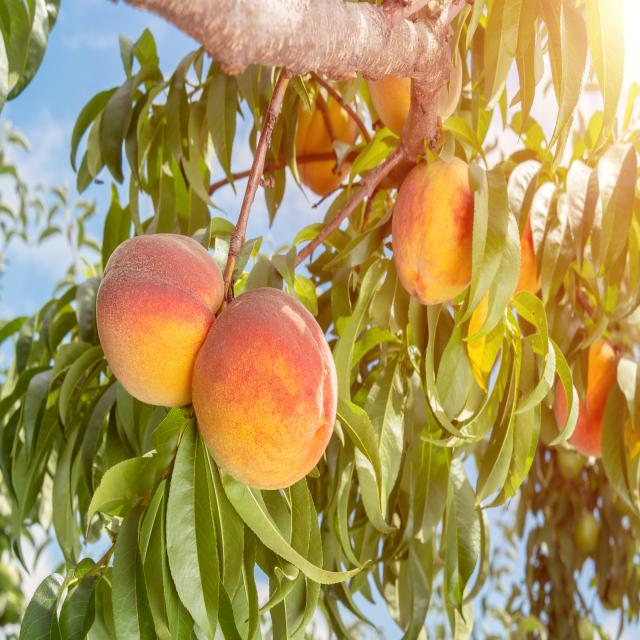peach: (7, 78, 550, 640)
